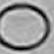no answer: (0, 3, 50, 50)
